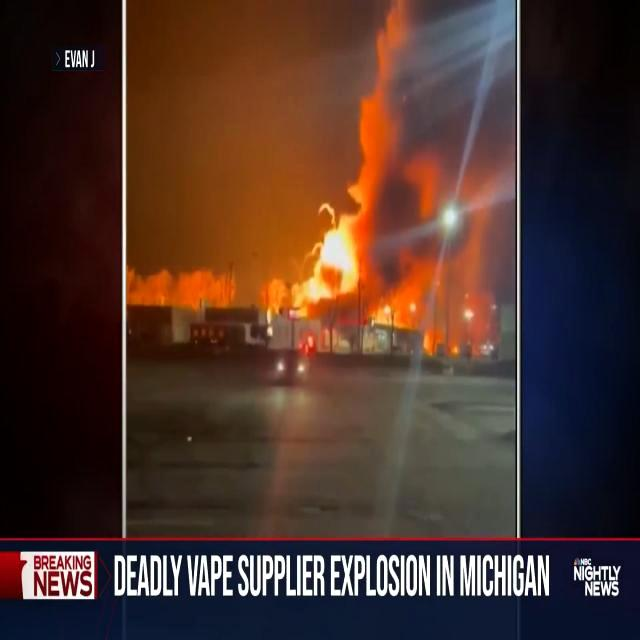fire: (274, 8, 514, 334)
